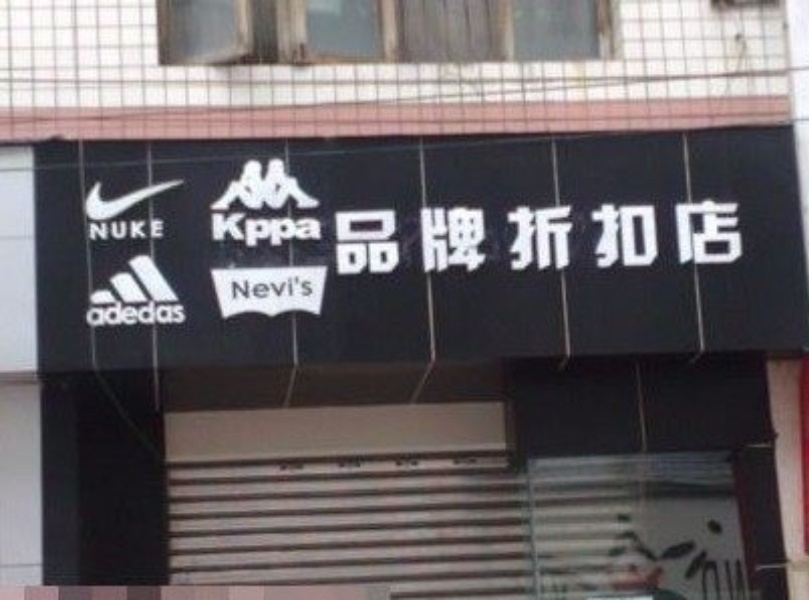text: (337, 198, 352, 280), (353, 198, 368, 280), (369, 198, 384, 280), (385, 198, 400, 280), (401, 198, 416, 280), (417, 198, 432, 280), (433, 198, 448, 280), (449, 198, 464, 280), (465, 198, 480, 280), (481, 198, 496, 280), (497, 198, 512, 280), (513, 198, 528, 280), (529, 198, 544, 280), (545, 198, 560, 280), (561, 198, 576, 280), (577, 198, 592, 280), (593, 198, 608, 280), (609, 198, 624, 280), (625, 198, 640, 280), (641, 198, 656, 280), (657, 198, 672, 280), (673, 198, 688, 280), (689, 198, 704, 280), (705, 198, 720, 280), (721, 198, 736, 280), (225, 212, 240, 248), (241, 212, 256, 248), (257, 212, 272, 248), (273, 212, 288, 248), (289, 212, 304, 248), (305, 212, 320, 248), (737, 198, 743, 280), (97, 298, 112, 329), (113, 298, 128, 329), (129, 298, 144, 329), (145, 298, 160, 329), (161, 298, 176, 329), (212, 212, 224, 248), (241, 274, 256, 301), (257, 274, 272, 301), (273, 274, 288, 301), (289, 274, 304, 301), (177, 298, 188, 329), (97, 220, 112, 242), (113, 220, 128, 242), (129, 220, 144, 242), (145, 220, 160, 242), (87, 298, 96, 329), (305, 274, 314, 301), (232, 274, 240, 301), (89, 220, 96, 242), (335, 198, 336, 280), (161, 220, 164, 242)
